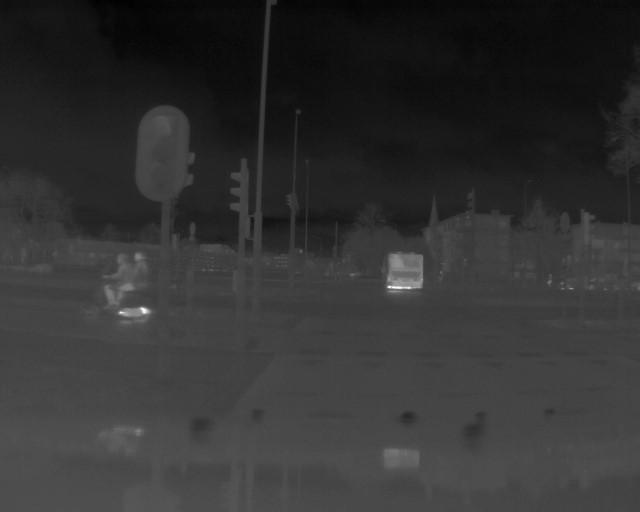car: (384, 251, 425, 289)
person: (105, 251, 130, 311), (131, 241, 150, 296)
